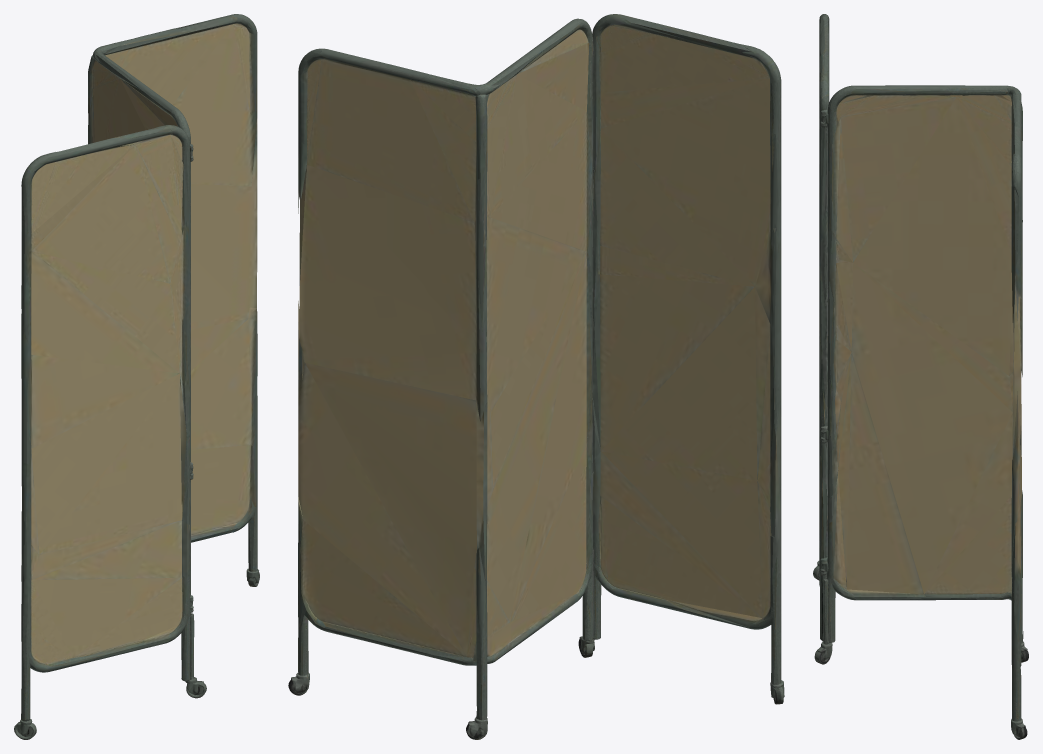
The model's file is paravento_A.glb.
3 renders of one model, left to right at view 1: azimuth 30°, elevation 25°; view 2: azimuth 150°, elevation 25°; view 3: azimuth 270°, elevation 25°, orthographic. The views are drawn at different scales.
Parts seen in each view (by area): view 1: Mesh_0; view 2: Mesh_0; view 3: Mesh_0.
Boxes of the visible parts, left/top/right/bottom form: Mesh_0: left=14, top=14, right=259, bottom=739; Mesh_0: left=288, top=14, right=784, bottom=739; Mesh_0: left=813, top=14, right=1028, bottom=739.
Size of the model in its own units: 1.12 by 1.8 by 0.6128.
Materials: 1 (1 with a texture image).
